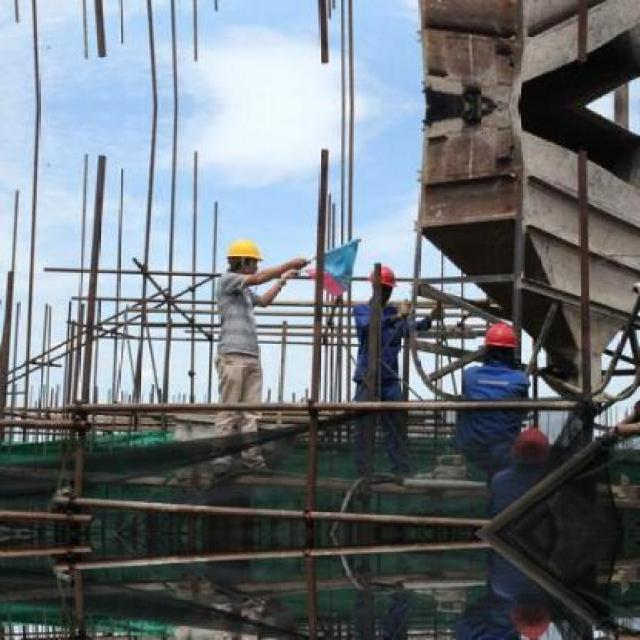hat: (511, 428, 554, 458), (223, 234, 263, 266), (482, 321, 520, 348), (368, 260, 398, 294)
